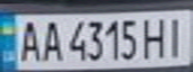1: (103, 17, 121, 61)
3: (84, 17, 106, 62)
4: (63, 17, 87, 62)
5: (118, 16, 142, 61)
A: (36, 17, 66, 63), (15, 17, 42, 63)
H: (139, 13, 172, 60)
I: (163, 14, 193, 58)
